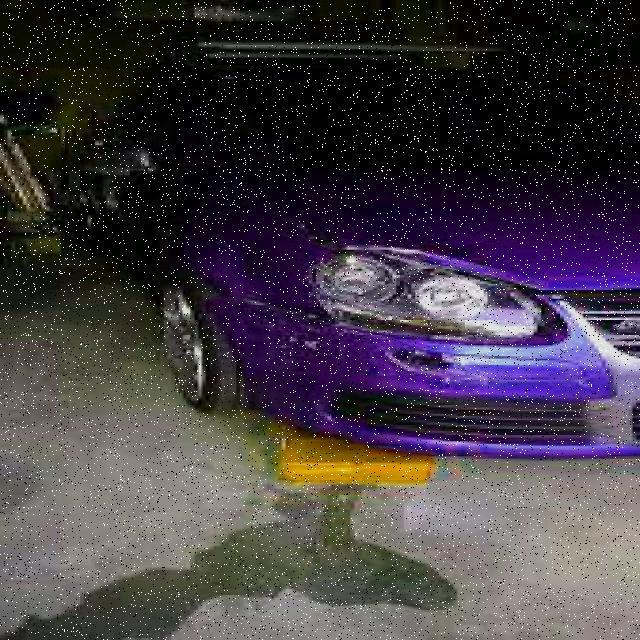car damage: (237, 235, 584, 398)
